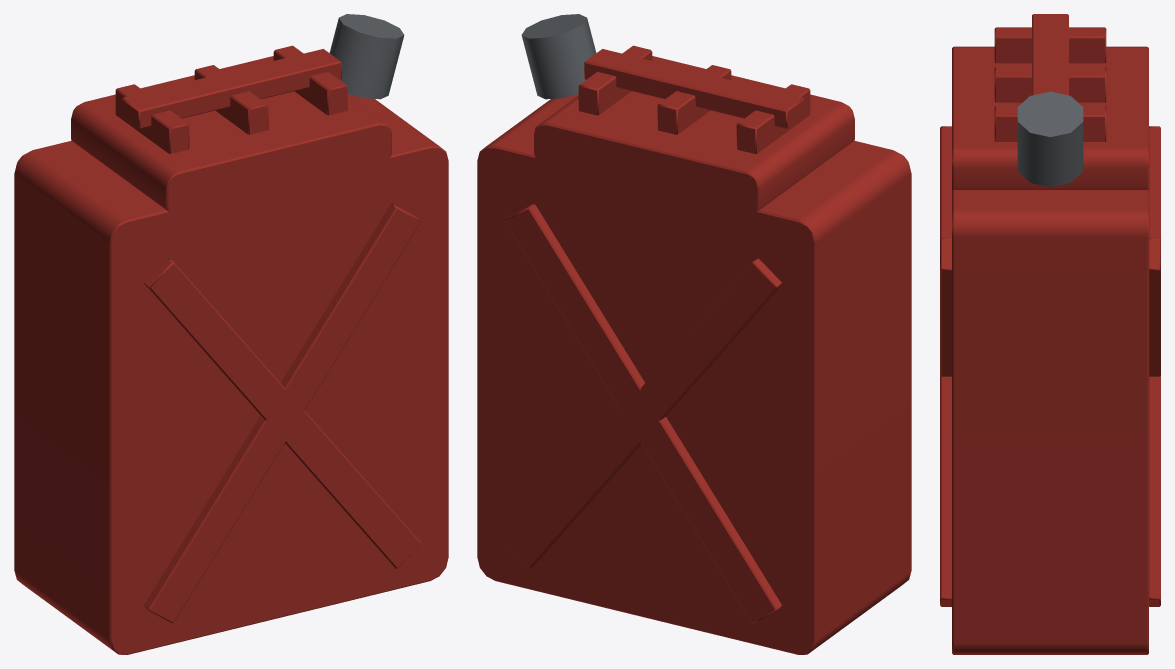
Rendered from jerry_can.glb.
3 views of the same model, side by side, from view 1: azimuth 30°, elevation 25°; view 2: azimuth 150°, elevation 25°; view 3: azimuth 270°, elevation 25° (orthographic).
Parts seen in each view (by area): view 1: jerry_can; view 2: jerry_can; view 3: jerry_can.
Part boxes in pixels (x1,y1,x2,y2): jerry_can: (14,14,448,654); jerry_can: (477,14,911,654); jerry_can: (940,14,1160,654).
Size of the model in its own units: 1.5 by 2.25 by 0.83.
